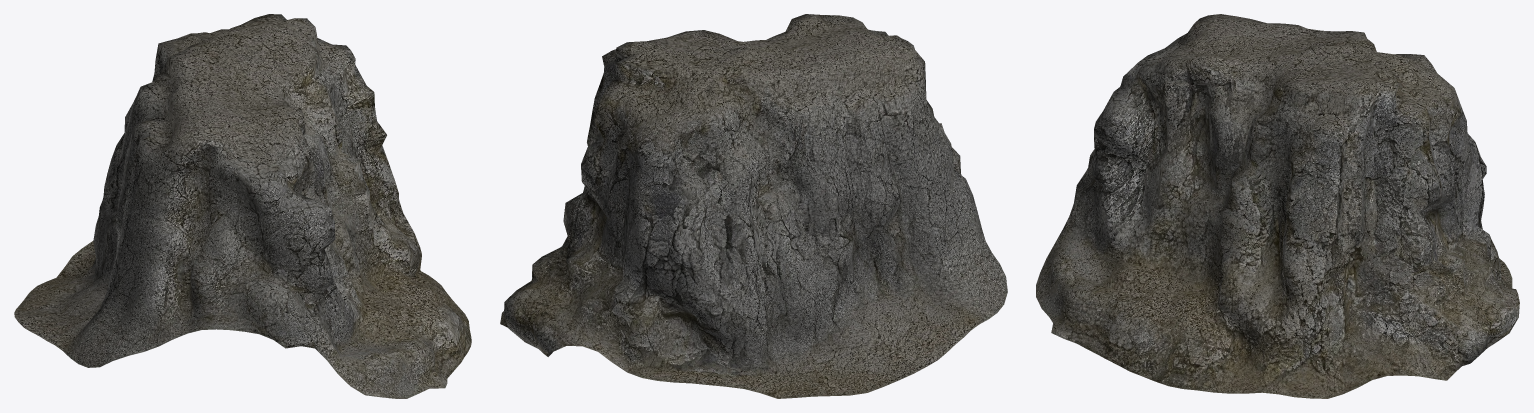
Rendered from rock1.glb.
3 renders of one model, left to right at view 1: azimuth 30°, elevation 25°; view 2: azimuth 150°, elevation 25°; view 3: azimuth 270°, elevation 25°, orthographic. The views are drawn at different scales.
Parts seen in each view (by area): view 1: tripo_node_dadb1d3b-9e3c-481d-bd40-a388b585bfb1; view 2: tripo_node_dadb1d3b-9e3c-481d-bd40-a388b585bfb1; view 3: tripo_node_dadb1d3b-9e3c-481d-bd40-a388b585bfb1.
Part boxes in pixels (x1,y1,x2,y2): tripo_node_dadb1d3b-9e3c-481d-bd40-a388b585bfb1: (14,14,471,398); tripo_node_dadb1d3b-9e3c-481d-bd40-a388b585bfb1: (500,14,1007,398); tripo_node_dadb1d3b-9e3c-481d-bd40-a388b585bfb1: (1036,14,1519,398).
Bounding box in the file's own units: 0.9121 × 0.5957 × 0.998.
Materials: 1 (1 with a texture image).
